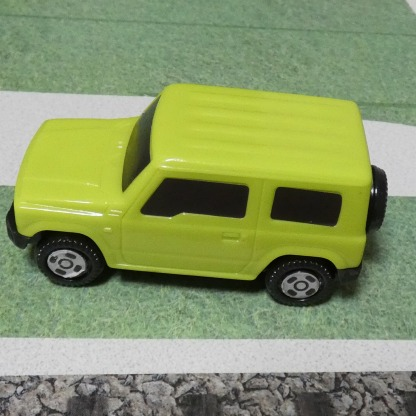car: (12, 82, 386, 304)
